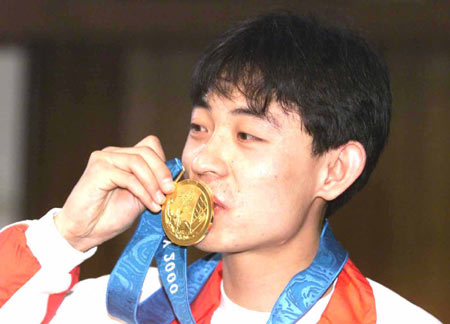face: (176, 65, 323, 253)
